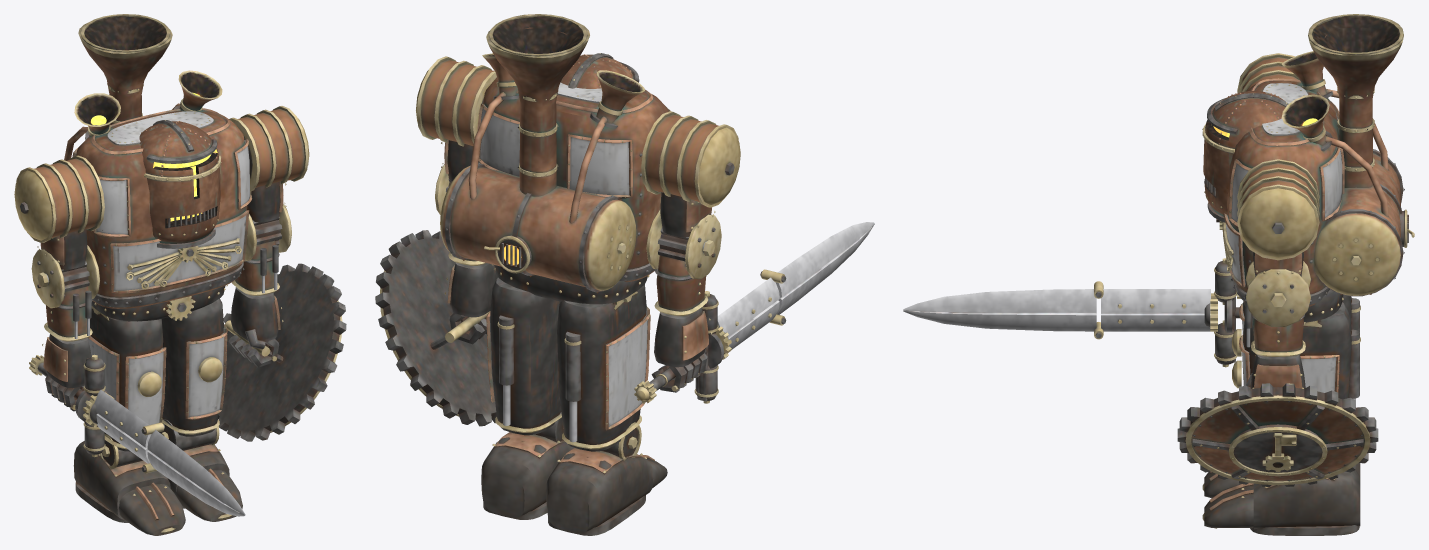
The model's file is CRESAGE.glb.
The picture shows the model from 3 angles, left to right: view 1: azimuth 30°, elevation 25°; view 2: azimuth 150°, elevation 25°; view 3: azimuth 270°, elevation 25°; orthographic projection. The views are drawn at different scales.
Visible parts, largest first — view 1: torso_geo, lhand_geo, ruparm_geo, head, lupleg_geo, luparm_geo, rupleg_geo, rhand_geo, rfoot_geo, rtoe_geo, rarm_geo, larm_geo (+7 smaller); view 2: torso_geo, lhand_geo, rupleg_geo, ruparm_geo, lupleg_geo, rfoot_geo, luparm_geo, lfoot_geo, rhand_geo, rarm_geo, hip_geo, swordtop_2_geo (+4 smaller); view 3: torso_geo, lhand_geo, luparm_geo, lfoot_geo, lupleg_geo, head, swordtop_2_geo, swordbot_2_geo, swordtop_1_geo, swordbot_1_geo, larm_geo, ltoe_geo (+4 smaller).
Boxes of the visible parts, x1,y1,x2,y2 form: torso_geo: (64,14,252,308); lhand_geo: (218,263,346,441); ruparm_geo: (14,155,104,308); head: (139,120,221,248); lupleg_geo: (162,298,227,436); luparm_geo: (229,106,309,261); rupleg_geo: (83,306,166,451); rhand_geo: (29,334,108,457); rfoot_geo: (73,434,170,522); rtoe_geo: (119,482,185,535); rarm_geo: (44,261,92,341); larm_geo: (232,217,282,295); torso_geo: (440,14,670,293); lhand_geo: (375,230,497,426); rupleg_geo: (557,284,650,451); ruparm_geo: (641,111,740,279); lupleg_geo: (486,277,561,435); rfoot_geo: (546,422,653,535); luparm_geo: (416,56,496,215); lfoot_geo: (481,412,574,519); rhand_geo: (634,291,724,403); rarm_geo: (654,227,708,316); hip_geo: (492,264,649,304); swordtop_2_geo: (760,222,874,297); torso_geo: (1216,14,1414,306); lhand_geo: (1177,354,1378,486); luparm_geo: (1237,159,1319,326); lfoot_geo: (1250,470,1360,535); lupleg_geo: (1232,302,1360,406); head: (1202,91,1288,222); swordtop_2_geo: (903,281,1103,312); swordbot_2_geo: (903,310,1103,339); swordtop_1_geo: (1101,289,1210,312); swordbot_1_geo: (1101,313,1210,331); larm_geo: (1245,276,1305,356); ltoe_geo: (1202,483,1253,528).
Size of the model in its own units: 3.51 by 4.88 by 4.79.
8 materials, 8 textured.
